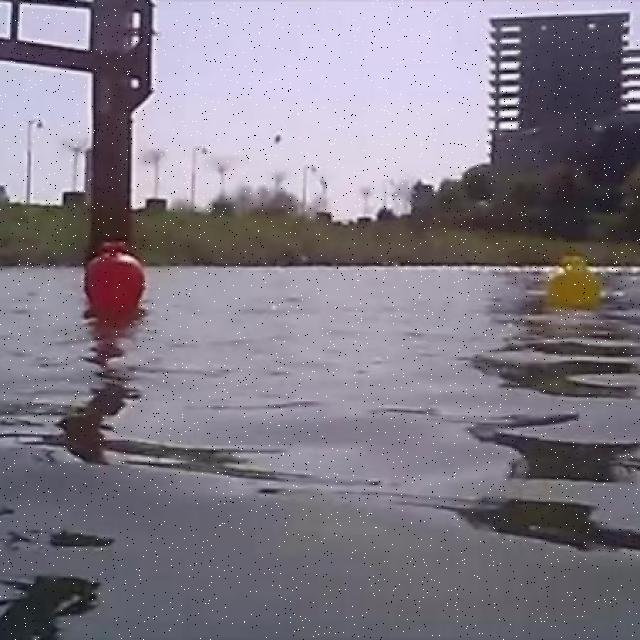buoy: (87, 243, 149, 312), (546, 258, 602, 311)
